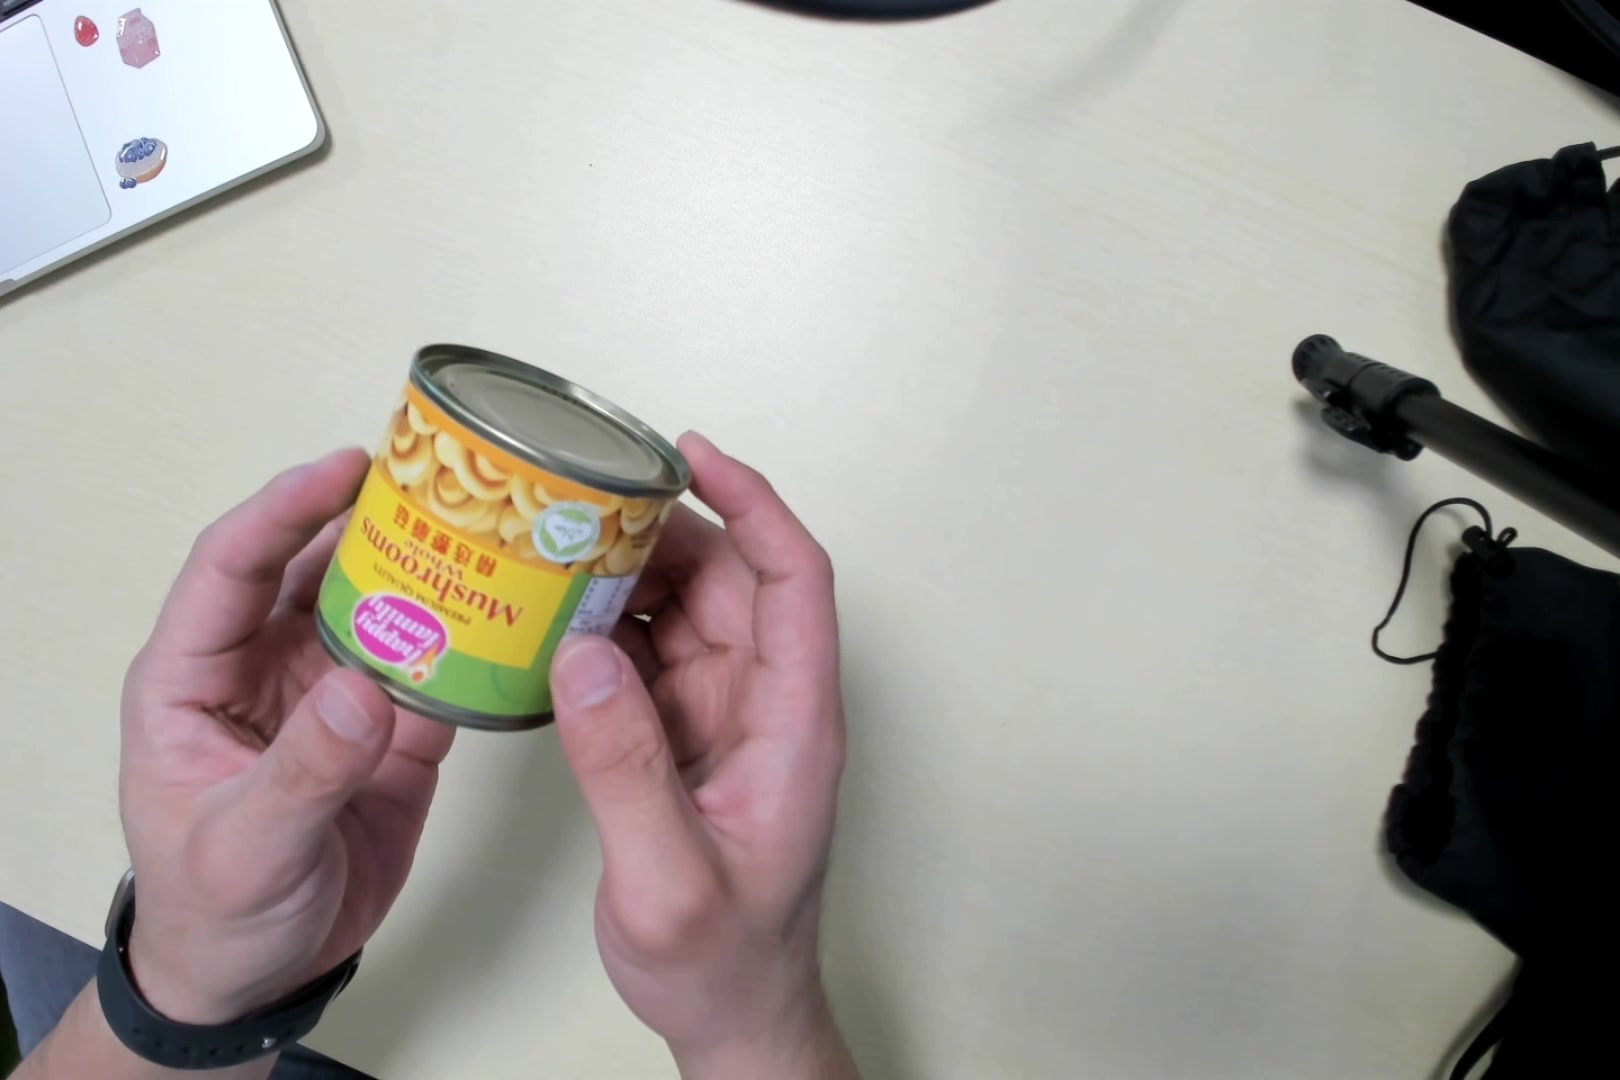CannedMashrooms_100-199g_Halal_NonHealthy: (315, 347, 677, 730)
